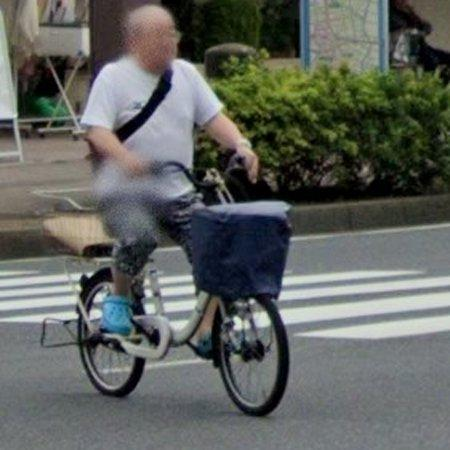bicycles: (42, 163, 292, 417)
